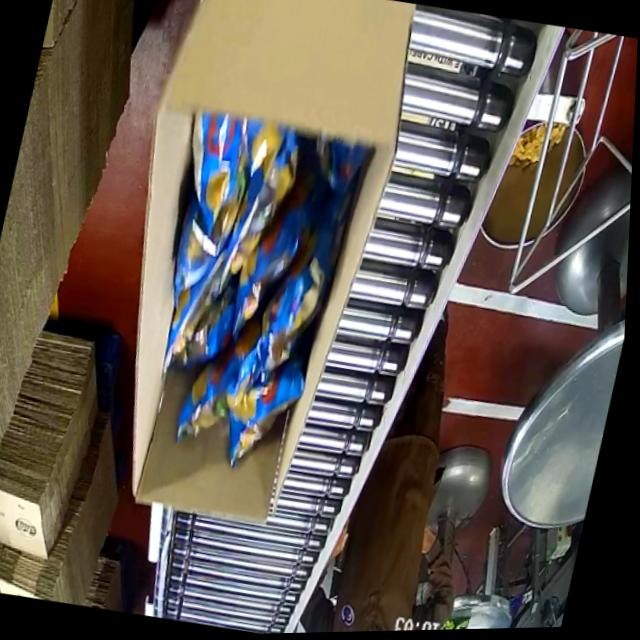PAPRIKA: (120, 94, 380, 482)
